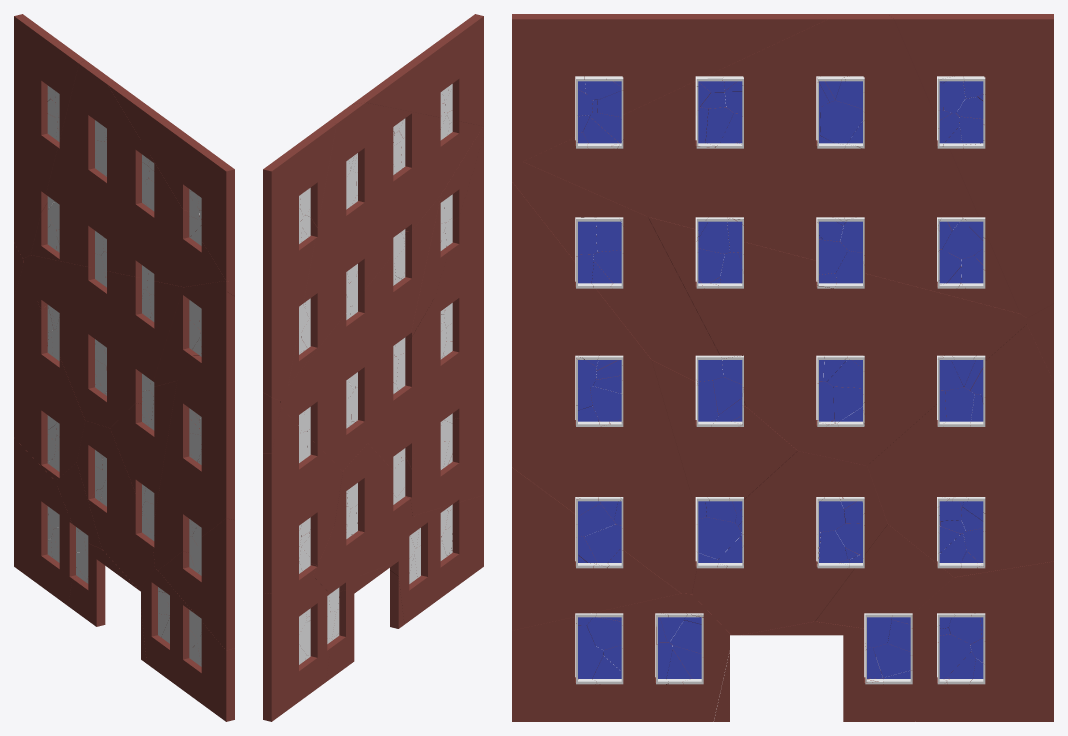
Rendered from wall01,04_Ax.fbx.
The picture shows the model from 3 angles, left to right: view 1: azimuth 30°, elevation 25°; view 2: azimuth 150°, elevation 25°; view 3: azimuth 270°, elevation 25°; orthographic projection. The views are drawn at different scales.
Parts seen in each view (by area): view 1: wall01_A(1).001_cell.014, wall01_A(1).001_cell.003, wall01_A(1).001_cell.013, wall01_A(1).001_cell, wall01_A(1).001_cell.009, wall01_A(1).001_cell.002, wall01_A(1).001_cell.012, wall01_A(1).001_cell.010, wall01_A(1).001_cell.001, wall01_A(1).001_cell.005, wall01_A(1).001_cell.007, wall01_A(1).001_cell.004 (+2 smaller); view 2: wall01_A(1).001_cell.014, wall01_A(1).001_cell.003, wall01_A(1).001_cell.013, wall01_A(1).001_cell, wall01_A(1).001_cell.009, wall01_A(1).001_cell.002, wall01_A(1).001_cell.010, wall01_A(1).001_cell.012, wall01_A(1).001_cell.001, wall01_A(1).001_cell.005, wall01_A(1).001_cell.007, wall01_A(1).001_cell.004 (+5 smaller); view 3: wall01_A(1).001_cell.014, wall01_A(1).001_cell.003, wall01_A(1).001_cell.013, wall01_A(1).001_cell, wall01_A(1).001_cell.009, wall01_A(1).001_cell.002, wall01_A(1).001_cell.001, wall01_A(1).001_cell.010, wall01_A(1).001_cell.012, wall01_A(1).001_cell.004, wall01_A(1).001_cell.005, wall01_A(1).001_cell.007 (+24 smaller).
Boxes of the visible parts, x1,y1,x2,y2 form: wall01_A(1).001_cell.014: [30, 60, 225, 286]; wall01_A(1).001_cell.003: [23, 255, 183, 427]; wall01_A(1).001_cell.013: [153, 291, 234, 570]; wall01_A(1).001_cell: [14, 14, 84, 258]; wall01_A(1).001_cell.009: [14, 266, 85, 480]; wall01_A(1).001_cell.002: [108, 79, 234, 281]; wall01_A(1).001_cell.012: [139, 569, 234, 721]; wall01_A(1).001_cell.010: [14, 438, 77, 606]; wall01_A(1).001_cell.001: [77, 421, 154, 589]; wall01_A(1).001_cell.005: [158, 518, 234, 650]; wall01_A(1).001_cell.007: [110, 381, 176, 518]; wall01_A(1).001_cell.004: [153, 281, 234, 386]; wall01_A(1).001_cell.014: [288, 102, 482, 385]; wall01_A(1).001_cell.003: [280, 194, 441, 471]; wall01_A(1).001_cell.013: [405, 136, 483, 517]; wall01_A(1).001_cell: [263, 123, 336, 400]; wall01_A(1).001_cell.009: [263, 408, 342, 593]; wall01_A(1).001_cell.002: [352, 14, 483, 126]; wall01_A(1).001_cell.010: [263, 576, 329, 721]; wall01_A(1).001_cell.012: [390, 495, 483, 624]; wall01_A(1).001_cell.001: [334, 443, 412, 575]; wall01_A(1).001_cell.005: [416, 363, 483, 514]; wall01_A(1).001_cell.007: [368, 298, 434, 470]; wall01_A(1).001_cell.004: [405, 126, 483, 346]; wall01_A(1).001_cell.014: [523, 14, 1019, 313]; wall01_A(1).001_cell.003: [647, 216, 1027, 465]; wall01_A(1).001_cell.013: [512, 182, 696, 593]; wall01_A(1).001_cell: [888, 14, 1053, 317]; wall01_A(1).001_cell.009: [867, 325, 1053, 577]; wall01_A(1).001_cell.002: [512, 14, 827, 161]; wall01_A(1).001_cell.001: [692, 451, 887, 635]; wall01_A(1).001_cell.010: [906, 561, 1053, 721]; wall01_A(1).001_cell.012: [512, 593, 730, 721]; wall01_A(1).001_cell.004: [512, 161, 719, 381]; wall01_A(1).001_cell.005: [512, 467, 680, 630]; wall01_A(1).001_cell.007: [651, 360, 797, 508].
Size of the model in its own units: 25.97 by 1222 by 854.
